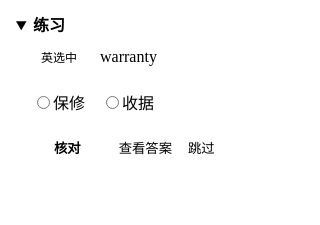
checking an answer still reports no mastery
Expected: the label "保修" is shown, [32, 90, 85, 114]
Step 1. Click the radio button labelled "保修" → (44, 102), box [37, 96, 50, 109]
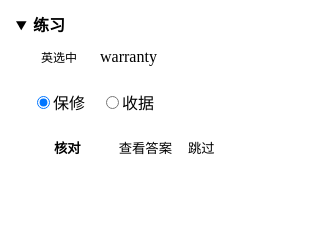
Step 2. Click the button "核对" → (67, 147), box [32, 124, 103, 170]
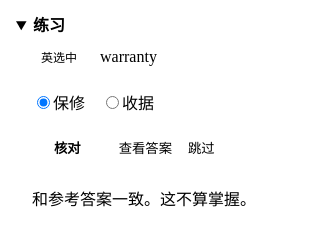
Expected: the text "这不算掌握" is shown, [32, 191, 256, 208]
